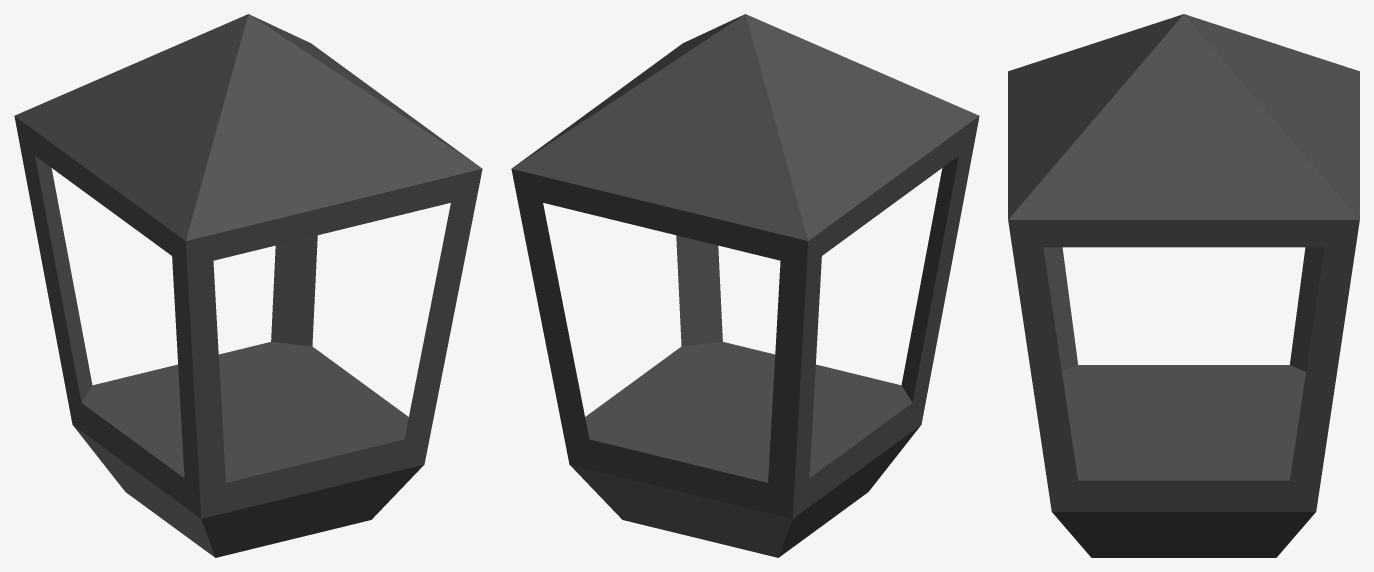
The model's file is Floating Lantern.fbx.
3 views of the same model, side by side, from view 1: azimuth 30°, elevation 25°; view 2: azimuth 150°, elevation 25°; view 3: azimuth 270°, elevation 25° (orthographic). The views are drawn at different scales.
Visible parts, largest first — view 1: Floating_Lantern; view 2: Floating_Lantern; view 3: Floating_Lantern.
Boxes of the visible parts, bbox=[...] form: Floating_Lantern: bbox=[14, 14, 482, 557]; Floating_Lantern: bbox=[511, 14, 979, 557]; Floating_Lantern: bbox=[1008, 14, 1359, 557].
Size of the model in its own units: 0.1772 by 0.2806 by 0.1772.
